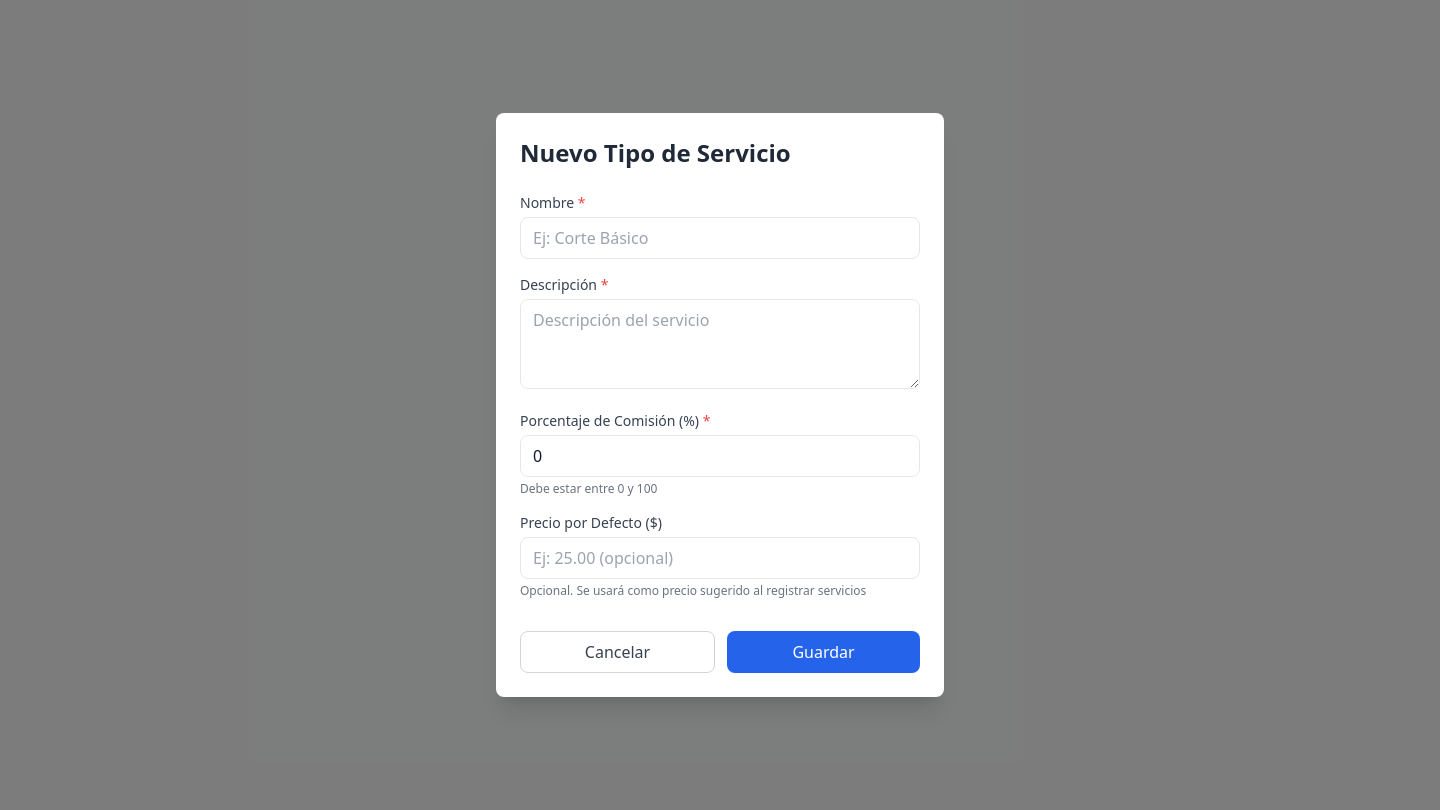
it: TipoServicioForm › valida que el porcentaje está en rango [0-100]
Step 1. Type "Corte Básico" into the field with placeholder "Ej: Corte Básico" → (720, 238), box [520,217,920,259]
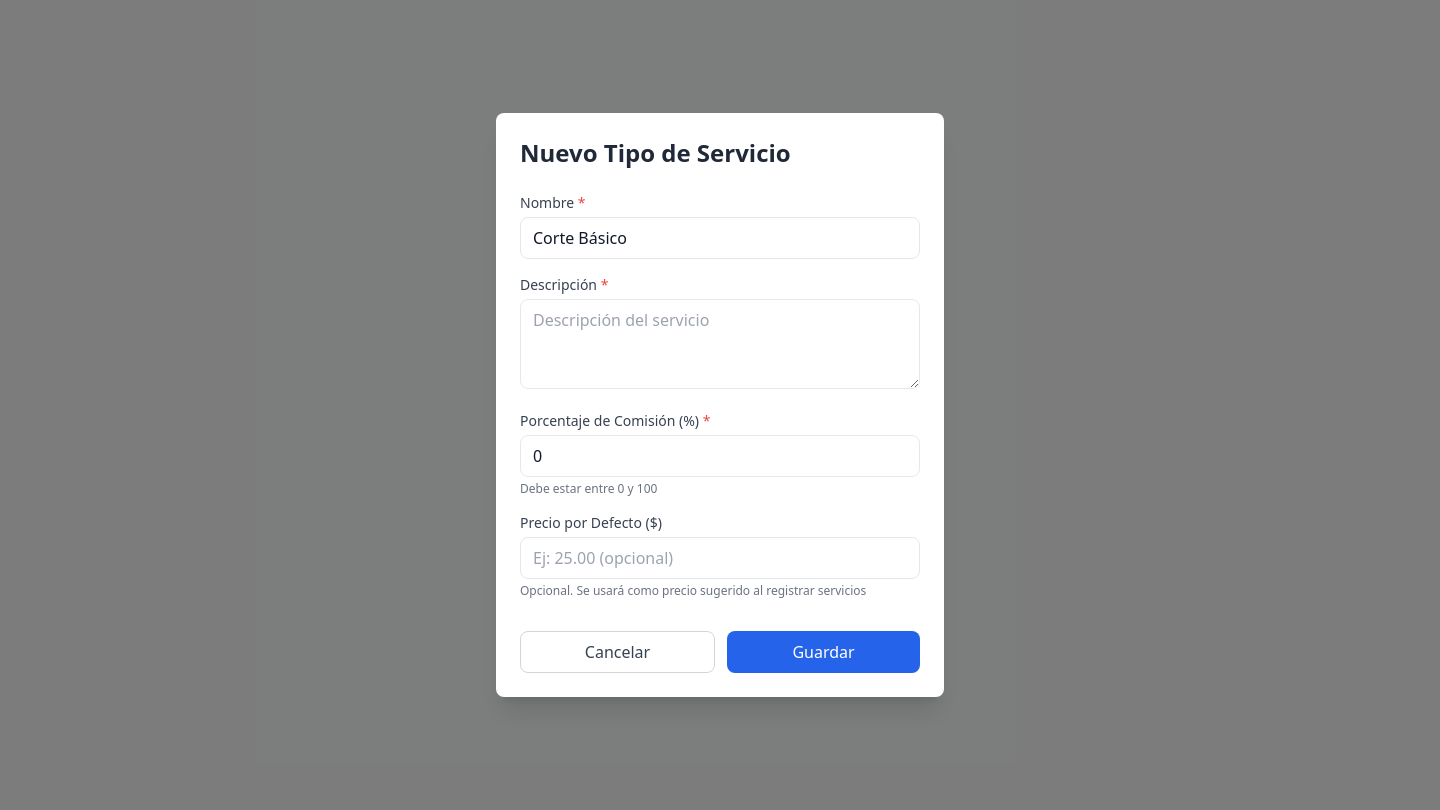
Step 2. Type "Descripción" into the text box with placeholder "Descripción del servicio" → (720, 344), box [520,299,920,389]
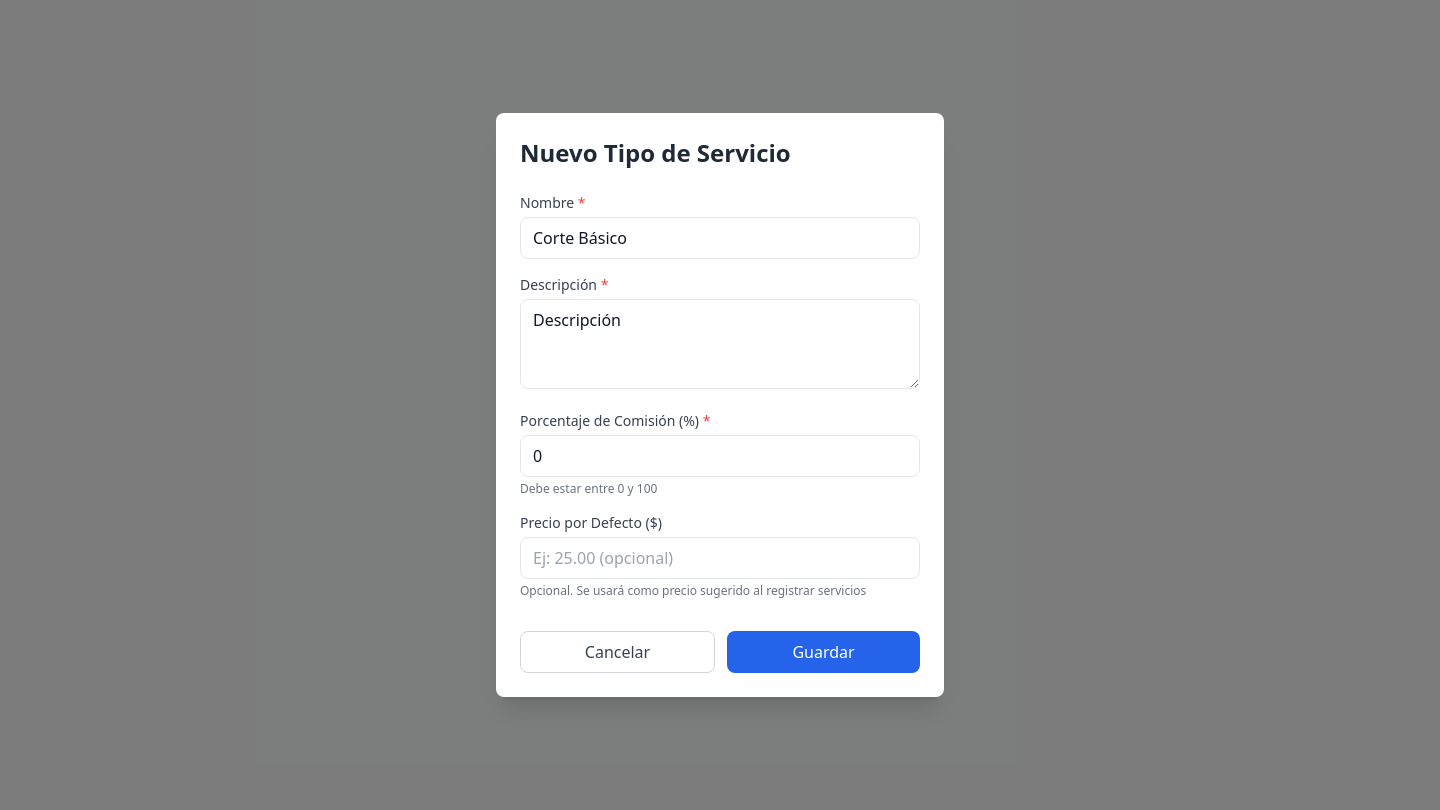
Step 3. Replace the text in the 1st number field with "150" → (720, 456), box [520,435,920,477]
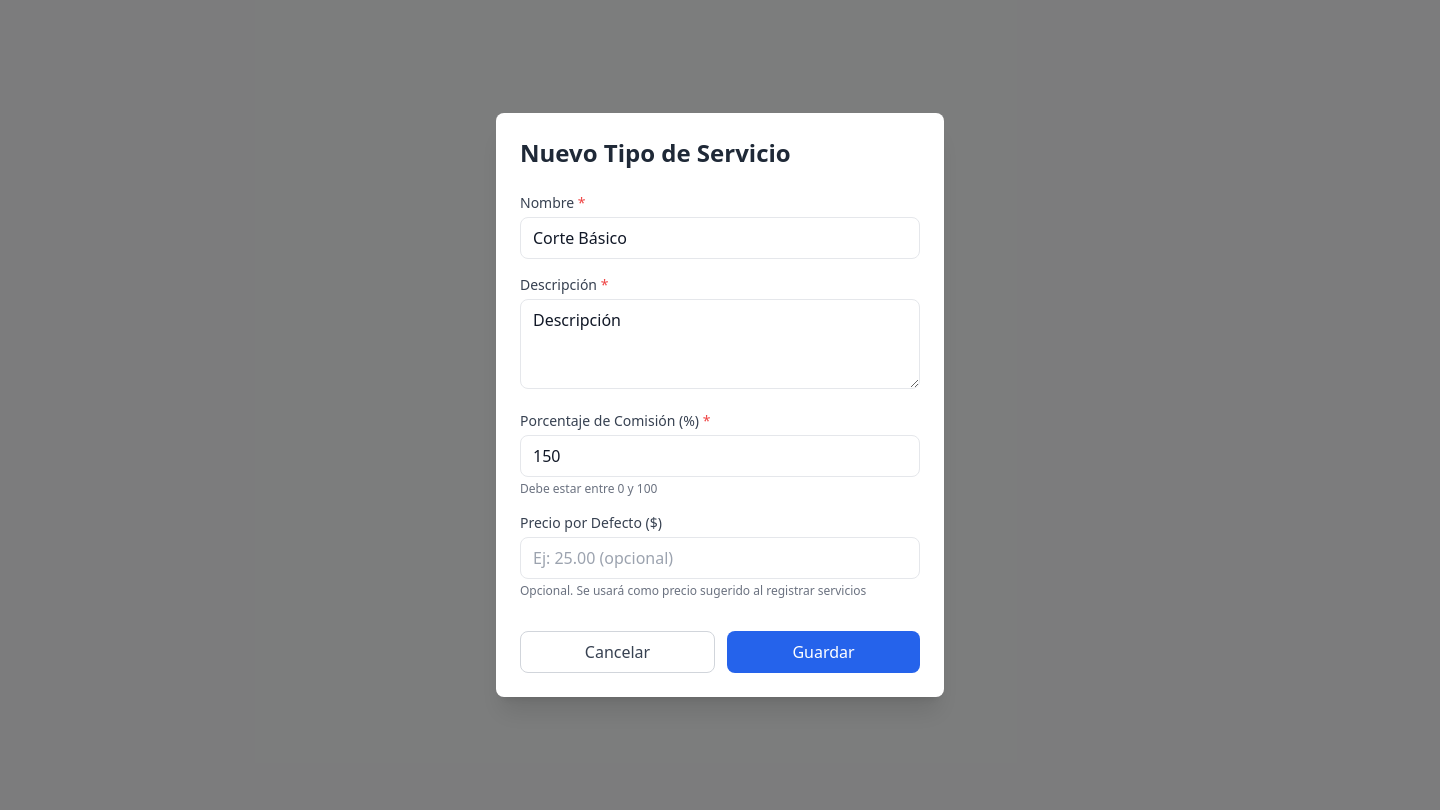
Step 4. Submit the form, box [520,193,920,673]
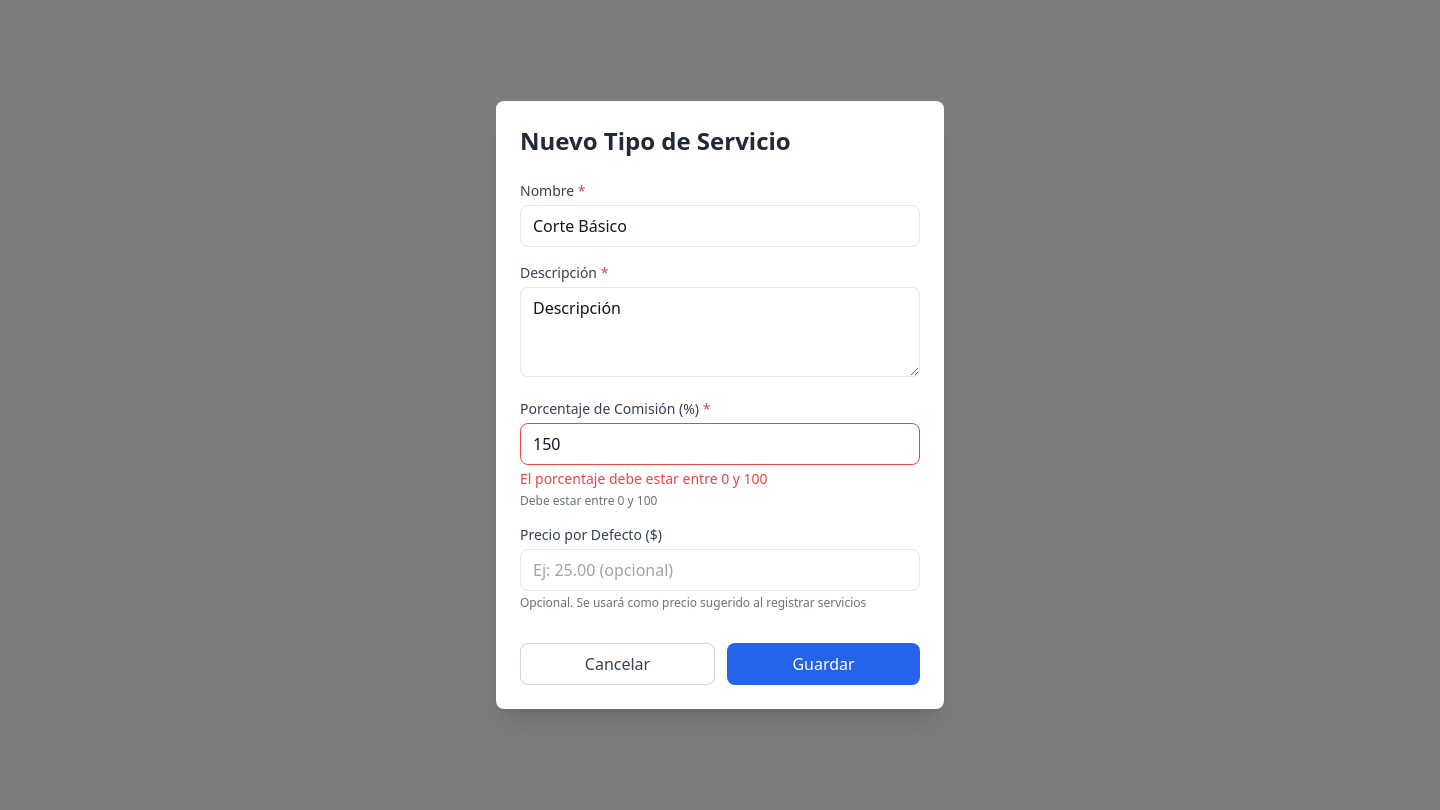
Check: the text "El porcentaje debe estar entre 0 y 100" is shown, box [520,469,768,488]
